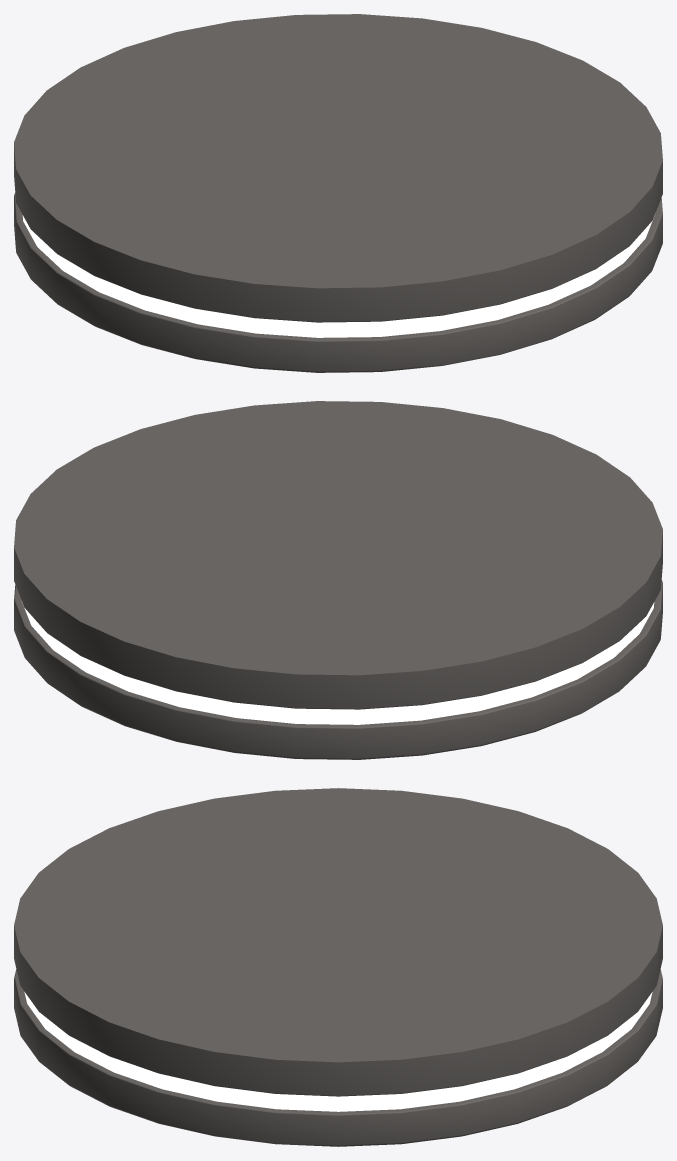
The model's file is light-v3.glb.
3 views of the same model, one above another, from view 1: azimuth 30°, elevation 25°; view 2: azimuth 150°, elevation 25°; view 3: azimuth 270°, elevation 25° (orthographic).
Visible parts, largest first — view 1: lamp_01, light; view 2: lamp_01, light; view 3: lamp_01, light.
Boxes of the visible parts, left/top/right/bottom form: lamp_01: left=14, top=14, right=662, bottom=372; light: left=22, top=215, right=654, bottom=337; lamp_01: left=14, top=401, right=662, bottom=759; light: left=22, top=602, right=654, bottom=724; lamp_01: left=14, top=788, right=662, bottom=1146; light: left=24, top=992, right=652, bottom=1111.
Size of the model in its own units: 2 by 0.2904 by 2.
1 material, 1 textured.
